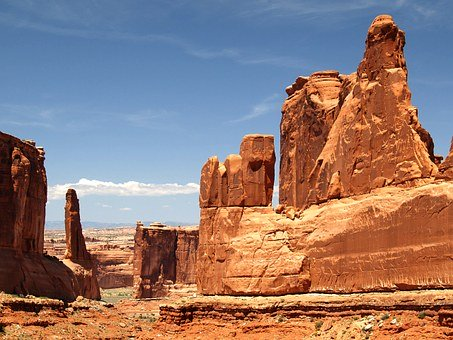ground: (6, 289, 434, 340)
sky: (3, 3, 308, 140)
stone: (209, 65, 453, 293)
